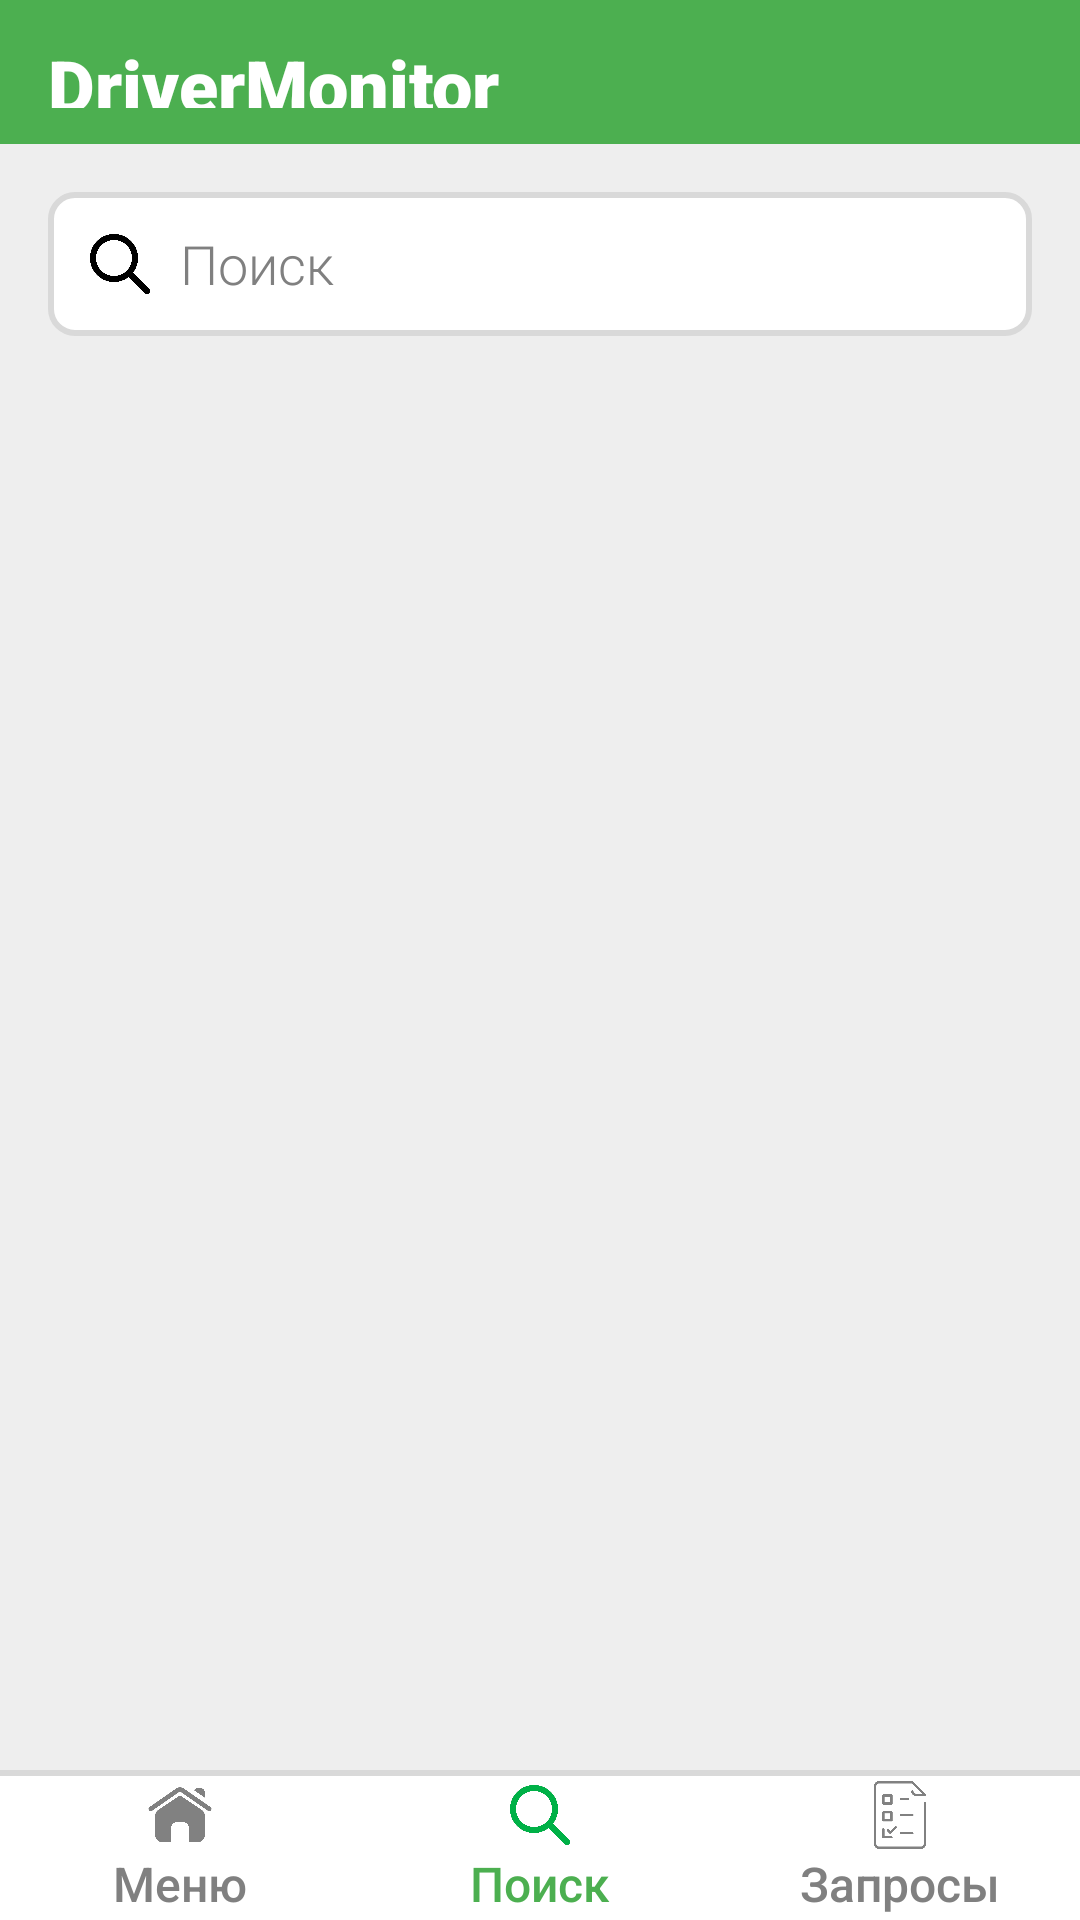

Named icons in this screenshot (1080px×1920px) and their bounding boxes, [x1=x1, y1=y1, x2=x2, y2=y2]:
home: [x1=148, y1=1787, x2=212, y2=1842]
tests: [x1=874, y1=1781, x2=926, y2=1849]
